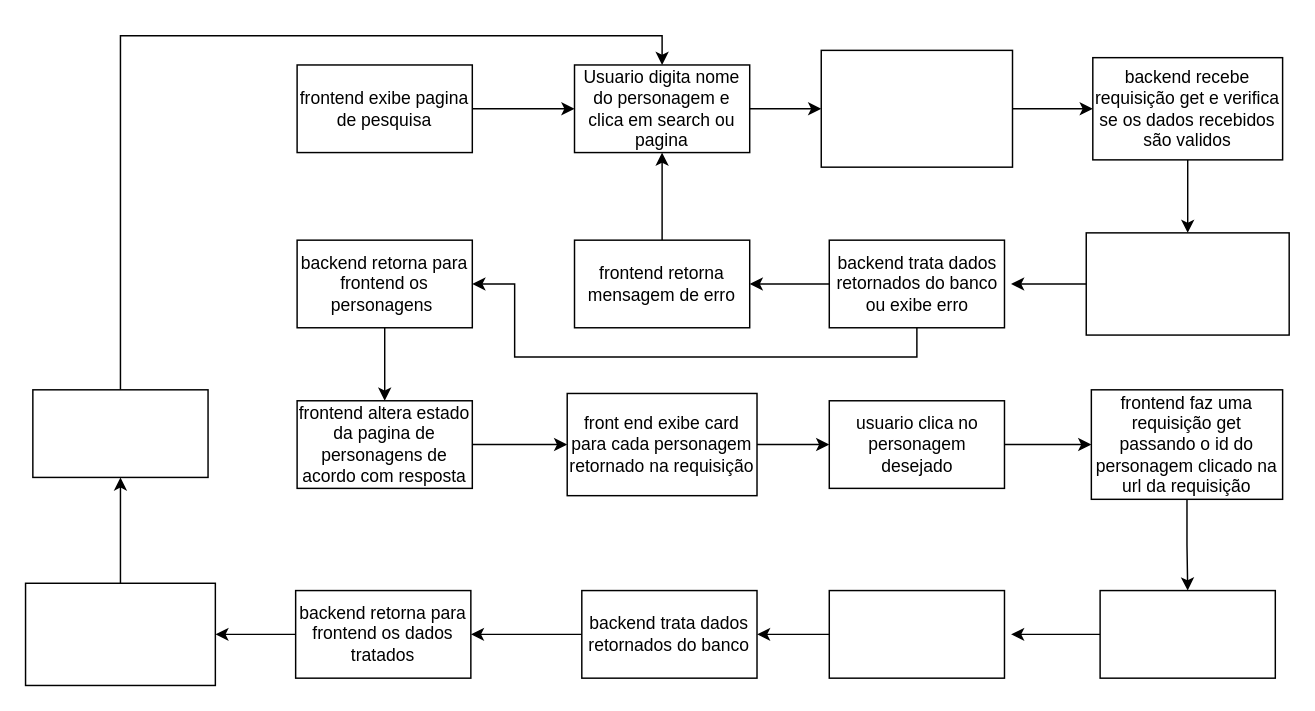
Some shapes in this 1315 by 711 pixel diagram are drawn without their labels. The shapes that lost their labels are listed below. From the top down, each one's box as (x1, y1, x2, y2) in pixels, then its label:
(820, 49, 1013, 167): front faz uma requisição get no backend com query params: nomePersonagem pagina
(1085, 231, 1289, 335): banco procura registros de nomePersonagem com LIMIT 20 e OFFSET (pagina-1)*20
(31, 388, 208, 477): frontend fecha card de detalhe de usuario
(24, 582, 215, 685): frontend exibe informações detalahdas do personagem com json retornado
(828, 589, 1004, 678): banco procura id especificado na requisição
(1099, 589, 1275, 678): backend recebe requisição get e verifica se dados são validos
